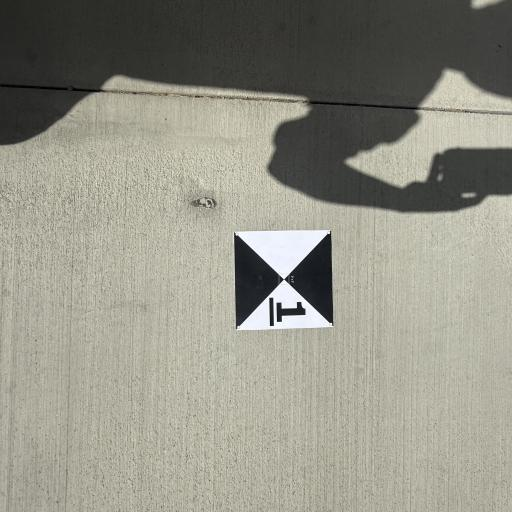target1: (230, 226, 340, 342)
